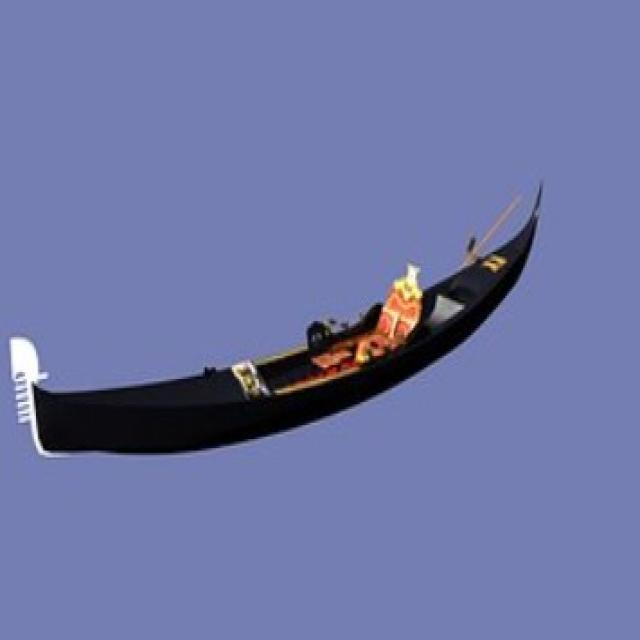boat: (6, 170, 566, 464)
